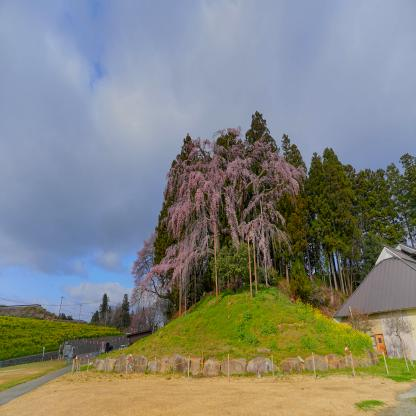ShidareZakura: (130, 126, 306, 316)
